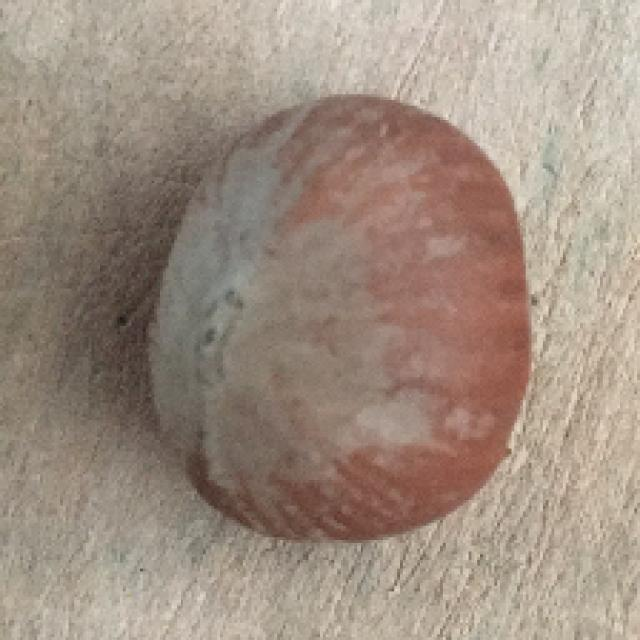qualityHazelnut: (134, 93, 534, 545)
